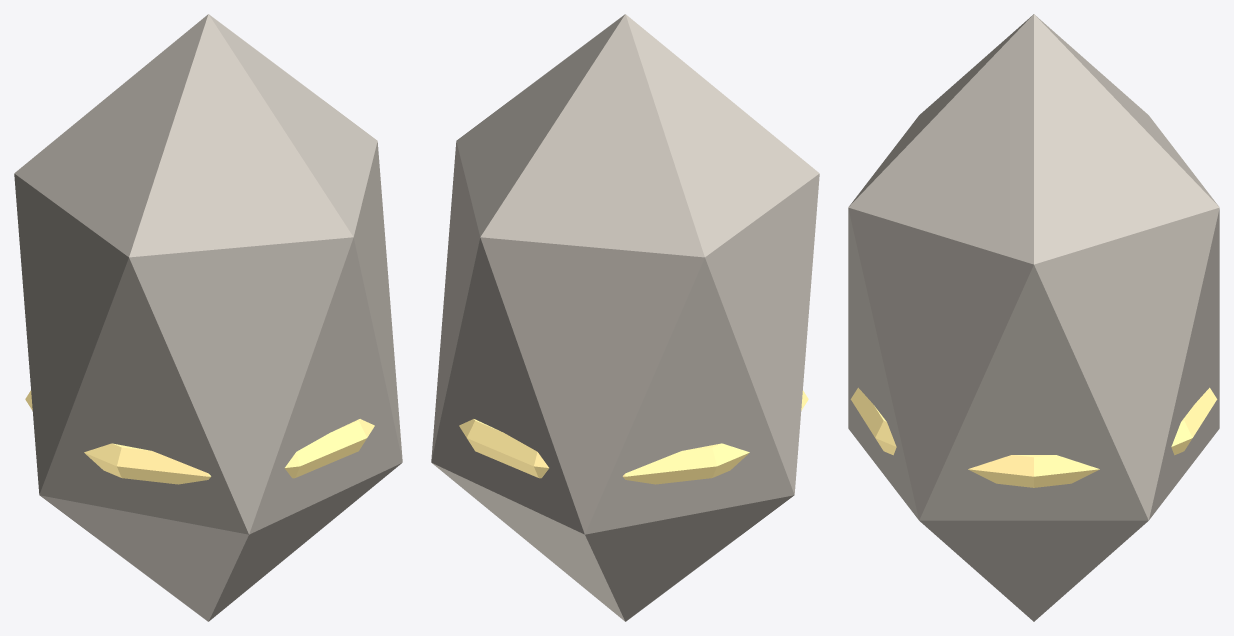
The model's file is egg_large.glb.
3 renders of one model, left to right at view 1: azimuth 30°, elevation 25°; view 2: azimuth 150°, elevation 25°; view 3: azimuth 270°, elevation 25°, orthographic.
Visible parts, largest first — view 1: EggShell; view 2: EggShell; view 3: EggShell.
Part boxes in pixels (<box>): EggShell: <box>14,14,402,621</box>; EggShell: <box>431,14,819,621</box>; EggShell: <box>848,14,1219,621</box>.
Size of the model in its own units: 1 by 1.72 by 0.9527.
